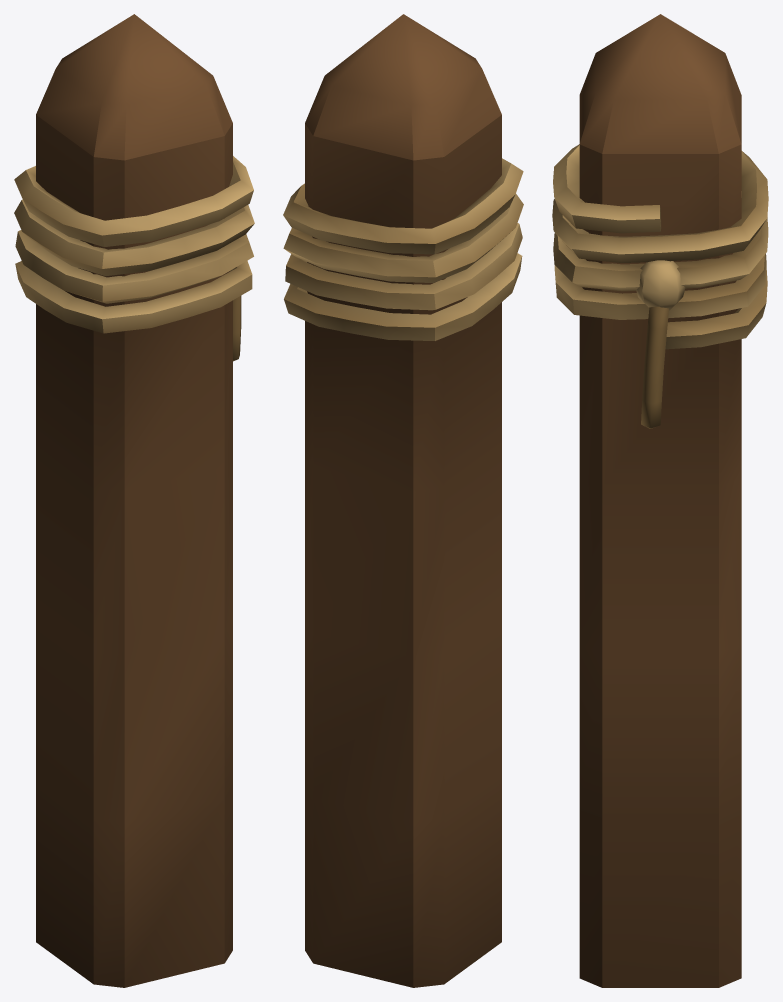
The model's file is bridge_post.glb.
3 views of the same model, side by side, from view 1: azimuth 30°, elevation 25°; view 2: azimuth 150°, elevation 25°; view 3: azimuth 270°, elevation 25° (orthographic).
Parts seen in each view (by area): view 1: bridge_post; view 2: bridge_post; view 3: bridge_post.
Part boxes in pixels (<box>): bridge_post: <box>14,14,254,987</box>; bridge_post: <box>283,14,523,987</box>; bridge_post: <box>552,14,768,987</box>.
Bounding box in the file's own units: 0.3528 × 1.6 × 0.3338.
